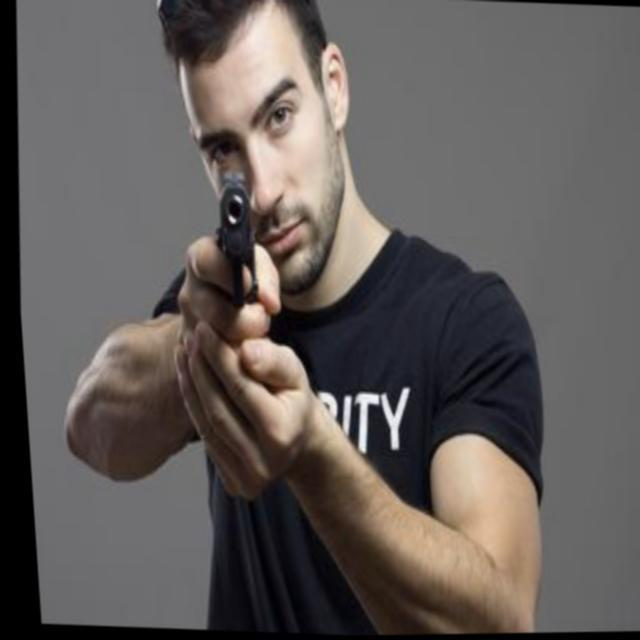weapon: (180, 174, 298, 464)
